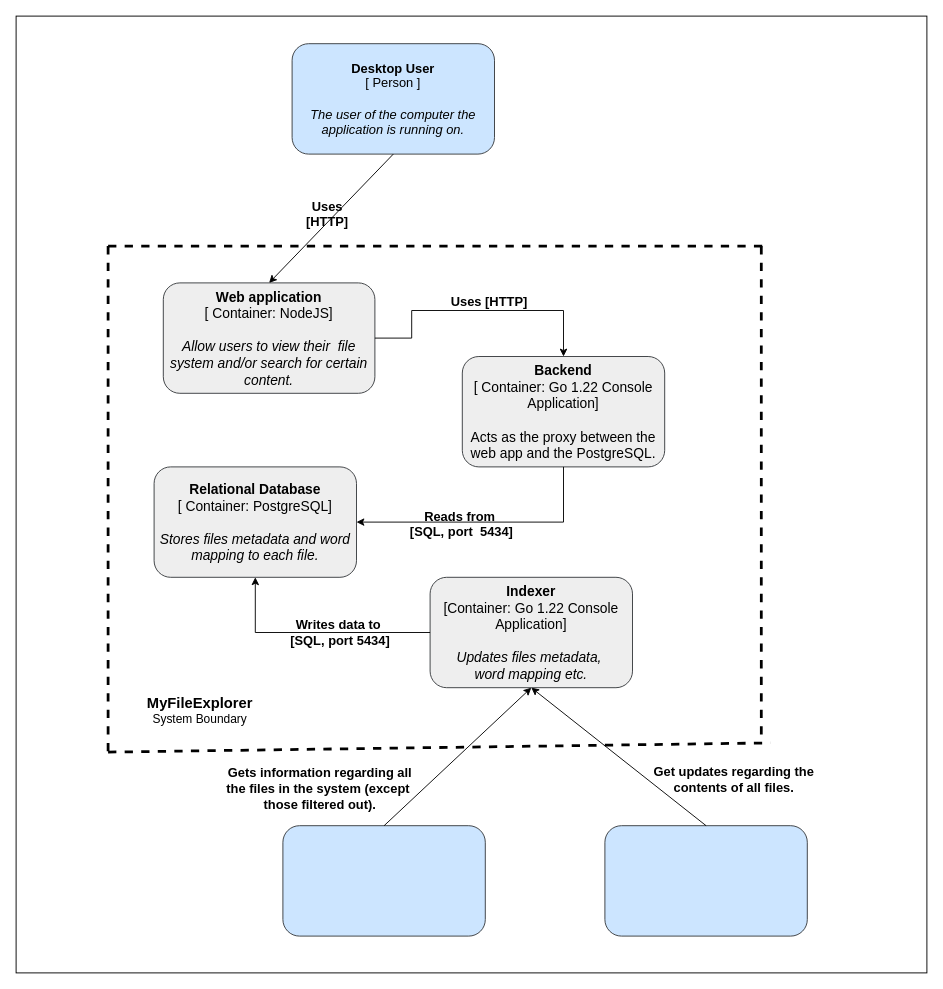
Image size: 943x989. Some labels were removed from this diagram. The centre of each missing label's shape, as x and y in pixels:
Local File System [ OS File System]: [383,880]
USN Journal [Windows File Changes Journal]: [705,880]
